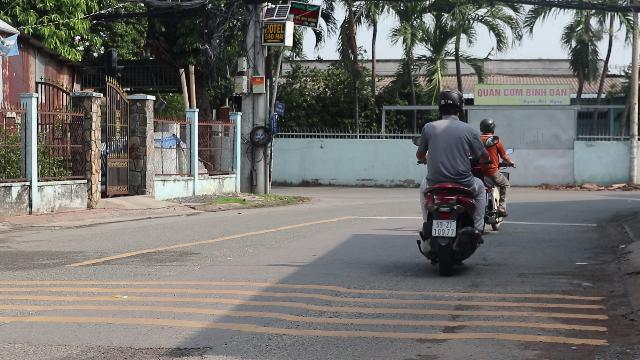helmet: (436, 89, 464, 119)
licenseplate: (432, 219, 456, 236)
motorcyclist: (410, 87, 490, 273)
